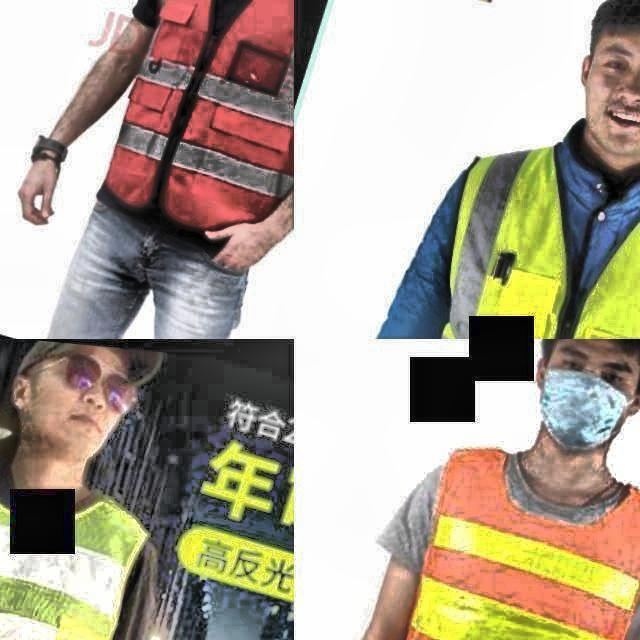safety_jacket: (369, 110, 640, 339), (360, 422, 640, 640), (89, 0, 294, 257), (0, 452, 156, 640)
